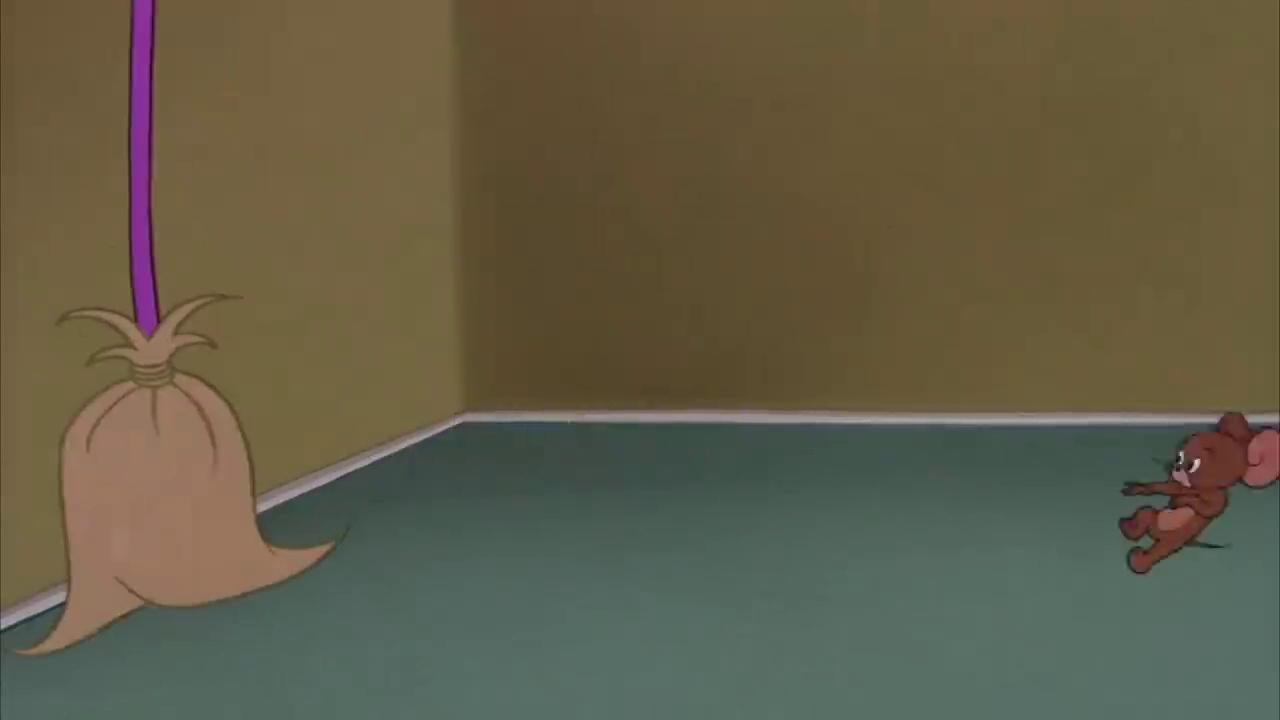Jerry: (1117, 408, 1280, 577)
